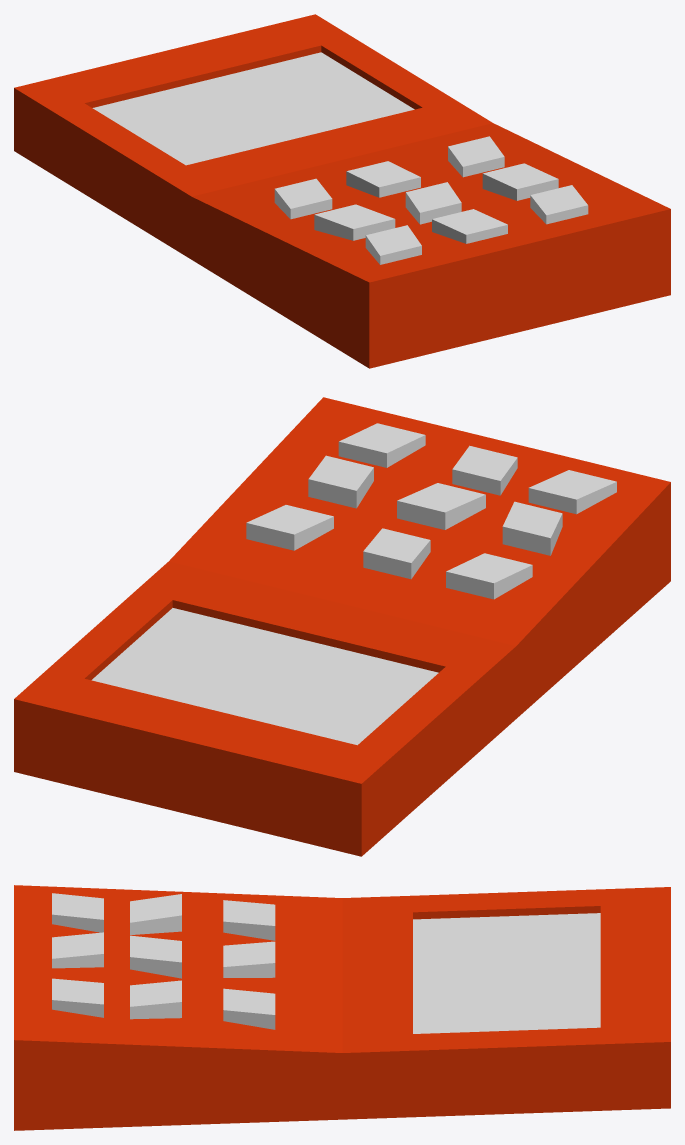
Rendered from calculator 1.fbx.
3 views of the same model, one above another, from view 1: azimuth 30°, elevation 25°; view 2: azimuth 150°, elevation 25°; view 3: azimuth 270°, elevation 25° (orthographic). The views are drawn at different scales.
Visible parts, largest first — view 1: Cube, Cube.005, Cube.006, Cube.008, Cube.002, Cube.009, Cube.007, Cube.004, Cube.003, Cube.001; view 2: Cube, Cube.004, Cube.007, Cube.009, Cube.001, Cube.003, Cube.006, Cube.008, Cube.005, Cube.002; view 3: Cube, Cube.004, Cube.006, Cube.005, Cube.007, Cube.009, Cube.008, Cube.002, Cube.003, Cube.001.
Part boxes in pixels (left/top/right/bottom): Cube: left=14, top=14, right=670, bottom=368; Cube.005: left=314, top=204, right=395, bottom=240; Cube.006: left=482, top=163, right=558, bottom=200; Cube.008: left=346, top=161, right=420, bottom=197; Cube.002: left=432, top=209, right=507, bottom=243; Cube.009: left=274, top=178, right=332, bottom=219; Cube.007: left=448, top=136, right=504, bottom=177; Cube.004: left=405, top=182, right=461, bottom=224; Cube.003: left=530, top=185, right=588, bottom=224; Cube.001: left=365, top=225, right=421, bottom=264; Cube: left=14, top=397, right=670, bottom=856; Cube.004: left=397, top=483, right=485, bottom=529; Cube.007: left=246, top=505, right=333, bottom=550; Cube.009: left=446, top=553, right=532, bottom=599; Cube.001: left=528, top=470, right=616, bottom=514; Cube.003: left=338, top=423, right=425, bottom=467; Cube.006: left=308, top=455, right=373, bottom=508; Cube.008: left=363, top=528, right=430, bottom=579; Cube.005: left=502, top=501, right=562, bottom=555; Cube.002: left=452, top=445, right=517, bottom=495; Cube: left=14, top=885, right=670, bottom=1130; Cube.004: left=130, top=935, right=181, bottom=978; Cube.006: left=130, top=980, right=181, bottom=1019; Cube.005: left=130, top=894, right=181, bottom=934; Cube.007: left=223, top=988, right=275, bottom=1029; Cube.009: left=223, top=900, right=275, bottom=940; Cube.008: left=223, top=941, right=275, bottom=977; Cube.002: left=52, top=932, right=103, bottom=968; Cube.003: left=52, top=978, right=103, bottom=1017; Cube.001: left=52, top=893, right=103, bottom=932.
Size of the model in its own units: 128 by 32.76 by 200.
